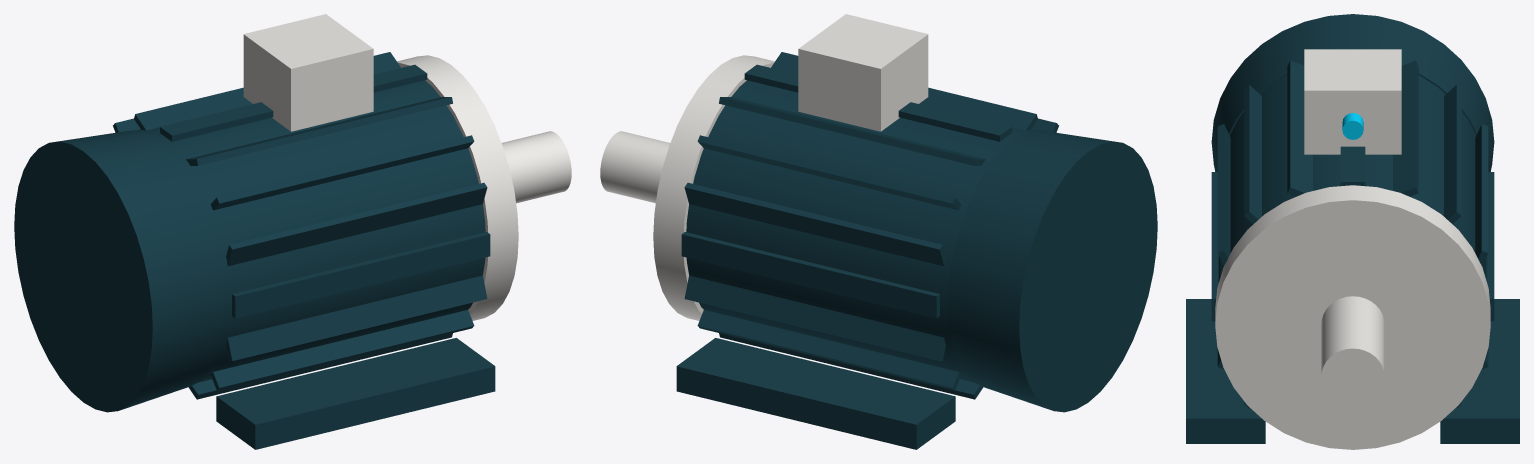
File: industrial_motor.glb
The picture shows the model from 3 angles, left to right: view 1: azimuth 30°, elevation 25°; view 2: azimuth 150°, elevation 25°; view 3: azimuth 270°, elevation 25°; orthographic projection.
Size of the model in its own units: 3.15 by 2.01 by 1.89.
